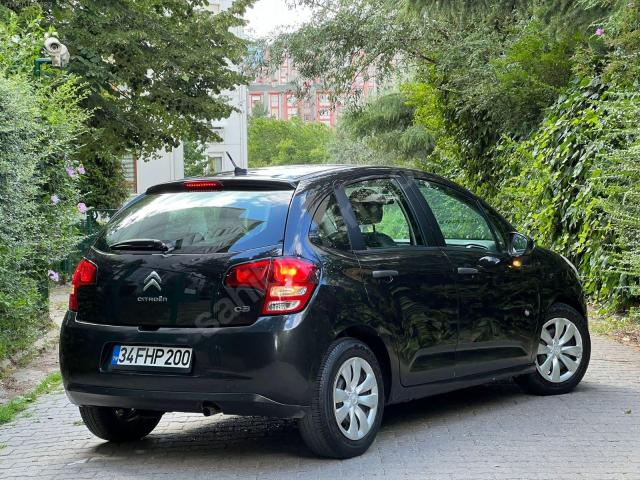plaka: (111, 345, 192, 369)
